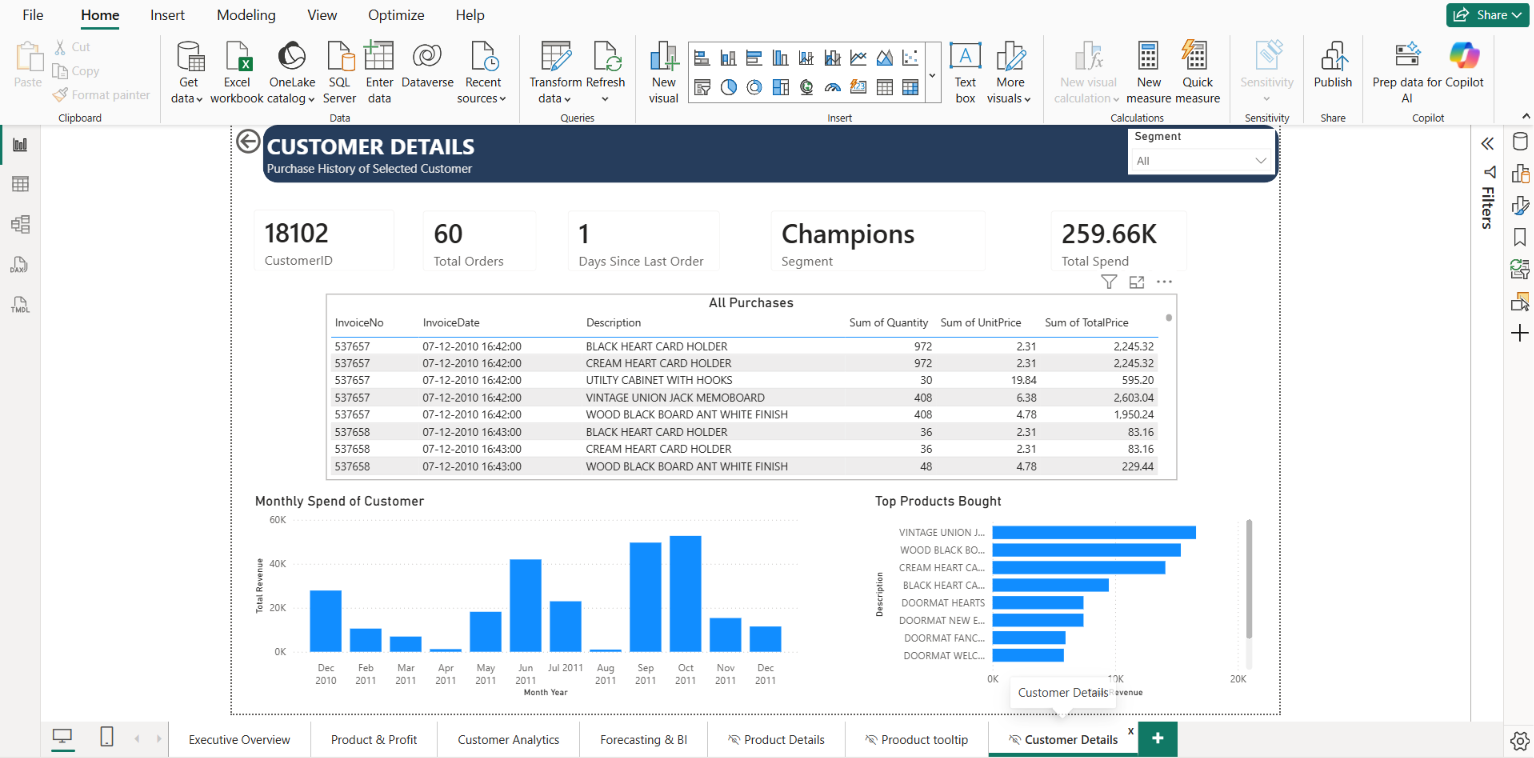

Layout of this report page (visuals, bound fields, positions):
{"tool":"powerbi","page":{"name":"Customer Details","canvas":[1280,720],"ordinal":6},"visuals":[{"type":"actionButton","box":[0,0,100,40],"z":0},{"type":"shape","box":[37.9,0,1242.4,70.9],"z":1000},{"type":"textbox","box":[37.9,2.4,439,68.5],"z":2000},{"type":"slicer","fields":{"Values":["CustomerSummary.Segment"]},"box":[1095.9,4.5,180,56.3],"z":3000},{"type":"cardVisual","fields":{"Data":["Min(CustomerSummary.CustomerID)"]},"box":[10.1,86.6,206.3,109.6],"z":4000},{"type":"cardVisual","fields":{"Data":["Sum(CustomerSummary.Orders)"]},"box":[216.4,88,173.1,108.2],"z":5000},{"type":"cardVisual","fields":{"Data":["Sum(CustomerSummary.Spend)"]},"box":[984,88,202,108.2],"z":6000},{"type":"cardVisual","fields":{"Data":["Sum(CustomerSummary.Recency Days)"]},"box":[393.9,88,220.7,108.2],"z":7000},{"type":"cardVisual","fields":{"Data":["Min(CustomerSummary.Segment)"]},"box":[642,88,297.2,108.2],"z":8000},{"type":"tableEx","title":"All Purchases","fields":{"Values":["output.InvoiceNo","output.InvoiceDate","output.Description","Sum(output.Quantity)","Sum(output.UnitPrice)","Sum(output.TotalPrice)"]},"box":[115.4,206.3,1040.2,228],"z":9000},{"type":"clusteredColumnChart","title":"Monthly Spend of Customer","fields":{"Category":["DateTable.Month Year"],"Y":["output.Total Revenue"]},"box":[23.1,450.1,673.8,255.4],"z":10000},{"type":"clusteredBarChart","title":"Top Products Bought","fields":{"Category":["output.Description"],"Y":["output.Total Revenue"]},"box":[782,450.1,471.8,255.4],"z":11000}]}

Visuals, with their boxes on the page's 1280x720 design canvas (x1, y1, x2, y2). These are canvas units, not pixel positions in the 1534x758 screenshot, which may show the page scaled, cropped or inside an application window:
actionButton: (x1=0, y1=0, x2=100, y2=40)
shape: (x1=38, y1=0, x2=1280, y2=71)
textbox: (x1=38, y1=2, x2=477, y2=71)
slicer - CustomerSummary.Segment: (x1=1096, y1=4, x2=1276, y2=61)
cardVisual - Min(CustomerSummary.CustomerID): (x1=10, y1=87, x2=216, y2=196)
cardVisual - Sum(CustomerSummary.Orders): (x1=216, y1=88, x2=390, y2=196)
cardVisual - Sum(CustomerSummary.Spend): (x1=984, y1=88, x2=1186, y2=196)
cardVisual - Sum(CustomerSummary.Recency Days): (x1=394, y1=88, x2=615, y2=196)
cardVisual - Min(CustomerSummary.Segment): (x1=642, y1=88, x2=939, y2=196)
"All Purchases" tableEx: (x1=115, y1=206, x2=1156, y2=434)
"Monthly Spend of Customer" clusteredColumnChart: (x1=23, y1=450, x2=697, y2=706)
"Top Products Bought" clusteredBarChart: (x1=782, y1=450, x2=1254, y2=706)
